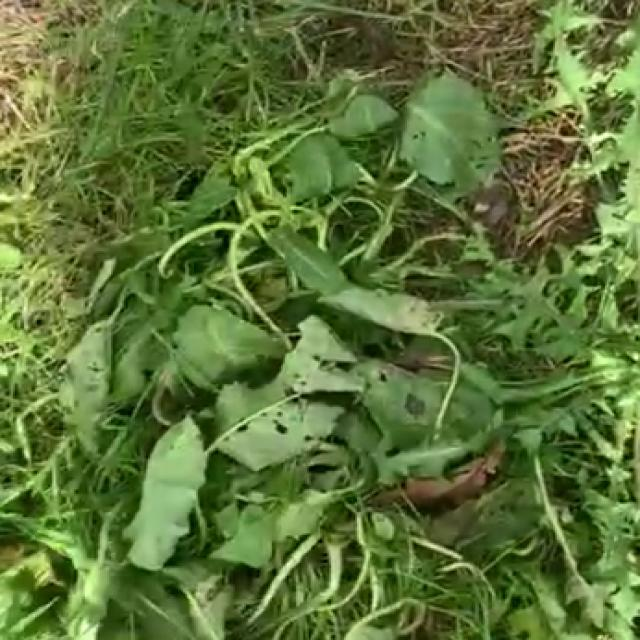organic waste: (83, 90, 572, 580)
